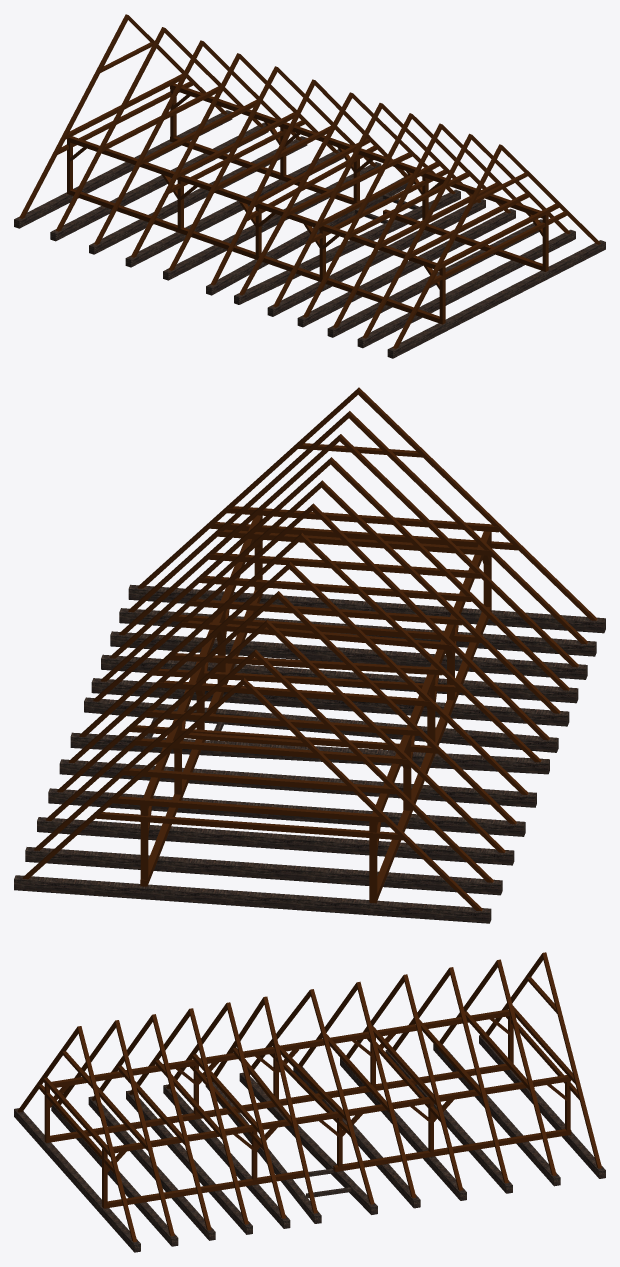
Rendered from krovy.dae.
3 views of the same model, one above another, from view 1: azimuth 30°, elevation 25°; view 2: azimuth 150°, elevation 25°; view 3: azimuth 270°, elevation 25° (orthographic). The views are drawn at different scales.
Parts seen in each view (by area): view 1: group_4 (×8), group_2 (×8), group_13, group_70, group_41, group_14, group_12, group_15, group_16, group_68, group_0 (×2), group_76 (+24 smaller); view 2: group_4 (×8), group_2 (×8), group_3 (×8), group_76, group_9, group_8, group_17, group_7, group_15, group_10, group_11, group_13 (+25 smaller); view 3: group_3 (×8), group_2 (×8), group_0 (×2), group_68, group_41, group_70, group_4 (×5), group_13, group_11, group_17, group_15, group_12 (+24 smaller).
Boxes of the visible parts, box(x1,y1,x2,y2) form: group_4 (×8): box(56, 27, 472, 338); group_2 (×8): box(102, 86, 529, 258); group_13: box(387, 240, 605, 358); group_70: box(67, 189, 439, 323); group_41: box(67, 136, 445, 271); group_14: box(357, 229, 575, 348); group_12: box(297, 208, 515, 327); group_15: box(267, 199, 485, 316); group_16: box(234, 189, 460, 304); group_68: box(170, 83, 548, 219); group_0 (×2): box(170, 136, 545, 271); group_76: box(14, 110, 232, 228); group_4 (×8): box(254, 411, 587, 882); group_2 (×8): box(123, 529, 489, 794); group_3 (×8): box(34, 411, 349, 850); group_76: box(14, 875, 491, 923); group_9: box(25, 847, 502, 895); group_8: box(37, 817, 514, 865); group_17: box(110, 631, 587, 679); group_7: box(48, 788, 525, 836); group_15: box(91, 678, 569, 726); group_10: box(59, 759, 536, 807); group_11: box(70, 732, 549, 774); group_13: box(128, 584, 605, 633); group_3 (×8): box(115, 959, 556, 1236); group_2 (×8): box(80, 1011, 534, 1150); group_0 (×2): box(107, 1129, 571, 1207); group_68: box(102, 1075, 571, 1154); group_41: box(44, 1009, 510, 1089); group_70: box(50, 1063, 509, 1142); group_4 (×5): box(92, 960, 497, 1100); group_13: box(14, 1108, 140, 1252); group_11: box(239, 1072, 377, 1214); group_17: box(88, 1096, 215, 1240); group_15: box(163, 1084, 290, 1228); group_12: box(126, 1090, 252, 1234).
Size of the model in its own units: 778 by 924 by 276.
Materials: 2 (1 with a texture image).
